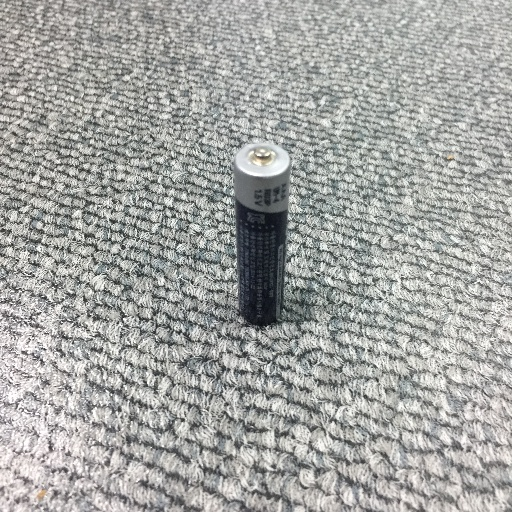Battery_0: (221, 134, 300, 337)
